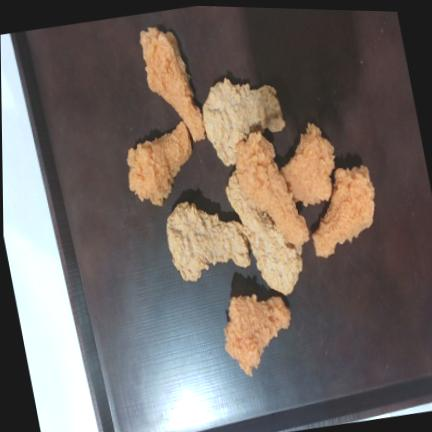chicken: (226, 171, 302, 295), (236, 132, 309, 246), (140, 27, 205, 141), (202, 78, 285, 166), (167, 202, 250, 281), (313, 165, 374, 257), (127, 121, 192, 205), (224, 294, 290, 376), (281, 123, 334, 206)
